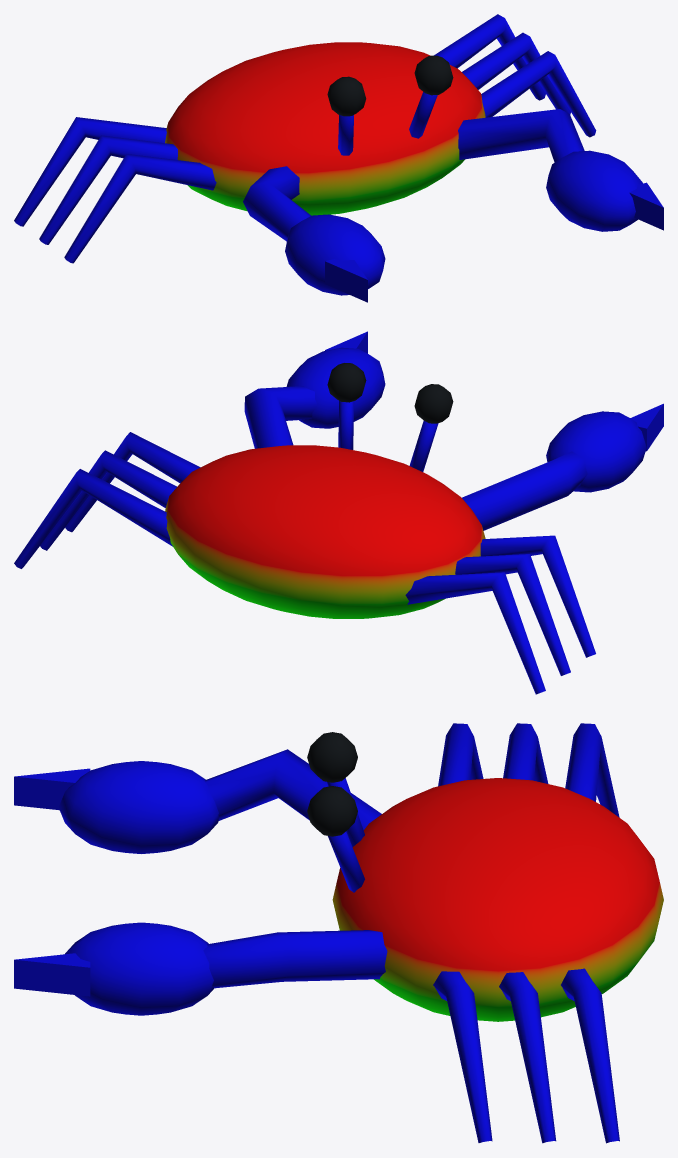
The model's file is fish_crab.glb.
3 views of the same model, one above another, from view 1: azimuth 30°, elevation 25°; view 2: azimuth 150°, elevation 25°; view 3: azimuth 270°, elevation 25° (orthographic). The views are drawn at different scales.
Parts seen in each view (by area): view 1: Body, Eye; view 2: Body, Eye; view 3: Body, Eye.
Boxes of the visible parts, x1=… form: Body: x1=14, y1=14, x2=663, y2=302; Eye: x1=327, y1=55, x2=453, y2=116; Body: x1=14, y1=331, x2=663, y2=694; Eye: x1=327, y1=363, x2=453, y2=423; Body: x1=14, y1=723, x2=663, y2=1143; Eye: x1=307, y1=732, x2=357, y2=836.
Size of the model in its own units: 1.22 by 0.3856 by 1.02.
